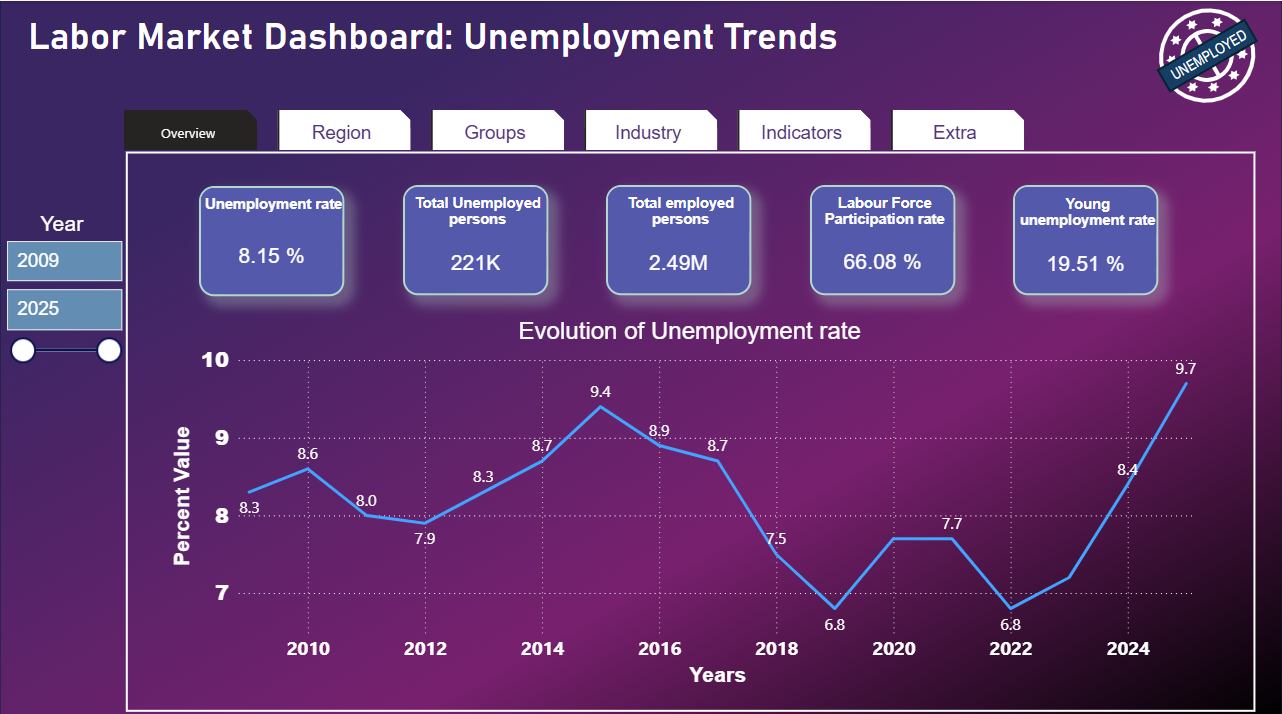

This screenshot's page, from the dashboard's own definition file:
{"tool":"powerbi","page":{"name":"Overview","canvas":[1280,720],"ordinal":0},"visuals":[{"type":"lineChart","title":"Evolution of Unemployment rate","fields":{"Category":["population_total.year"],"Y":["Avg(population_total.value)"]},"box":[151.5,315.5,1054.9,389.1],"z":0},{"type":"slicer","title":"Year","fields":{"Values":["Year_dim.year"]},"box":[0,210.2,125.4,190.5],"z":1000},{"type":"card","title":"Labour Force  Participation rate","fields":{"Values":["Avg(KPI_total.Percent_Labour)"]},"box":[809,184,145,110],"z":2000},{"type":"cardVisual","title":"Total Unemployed persons","fields":{"Data":["Avg(KPI_total.TotalUnemployed)"]},"box":[403,184,145,110],"z":3000},{"type":"cardVisual","title":"Unemployment rate","fields":{"Data":["Avg(KPI_total.Percent_Unemployment)"]},"box":[200,184.7,145,110],"z":4000},{"type":"cardVisual","title":"Total employed persons","fields":{"Data":["Avg(KPI_total.TotalEmployed)"]},"box":[606,184,145,110],"z":5000},{"type":"cardVisual","title":"Young unemployment rate ","fields":{"Data":["Avg(Youth_unemployment.Youth_percent)"]},"box":[1012,184,145,110],"z":6000},{"type":"pageNavigator","box":[125,108.9,901,40.3],"z":7002}]}

Visuals, with their boxes in screenshot pixels (x1, y1, x2, y2), scaled from the page's 1280x720 canvas onto the 1282x714 screenshot:
"Evolution of Unemployment rate" lineChart: bbox(152, 313, 1208, 699)
"Year" slicer: bbox(0, 208, 126, 397)
"Labour Force  Participation rate" card: bbox(810, 182, 955, 292)
"Total Unemployed persons" cardVisual: bbox(404, 182, 549, 292)
"Unemployment rate" cardVisual: bbox(200, 183, 346, 292)
"Total employed persons" cardVisual: bbox(607, 182, 752, 292)
"Young unemployment rate " cardVisual: bbox(1014, 182, 1159, 292)
pageNavigator: bbox(125, 108, 1028, 148)
